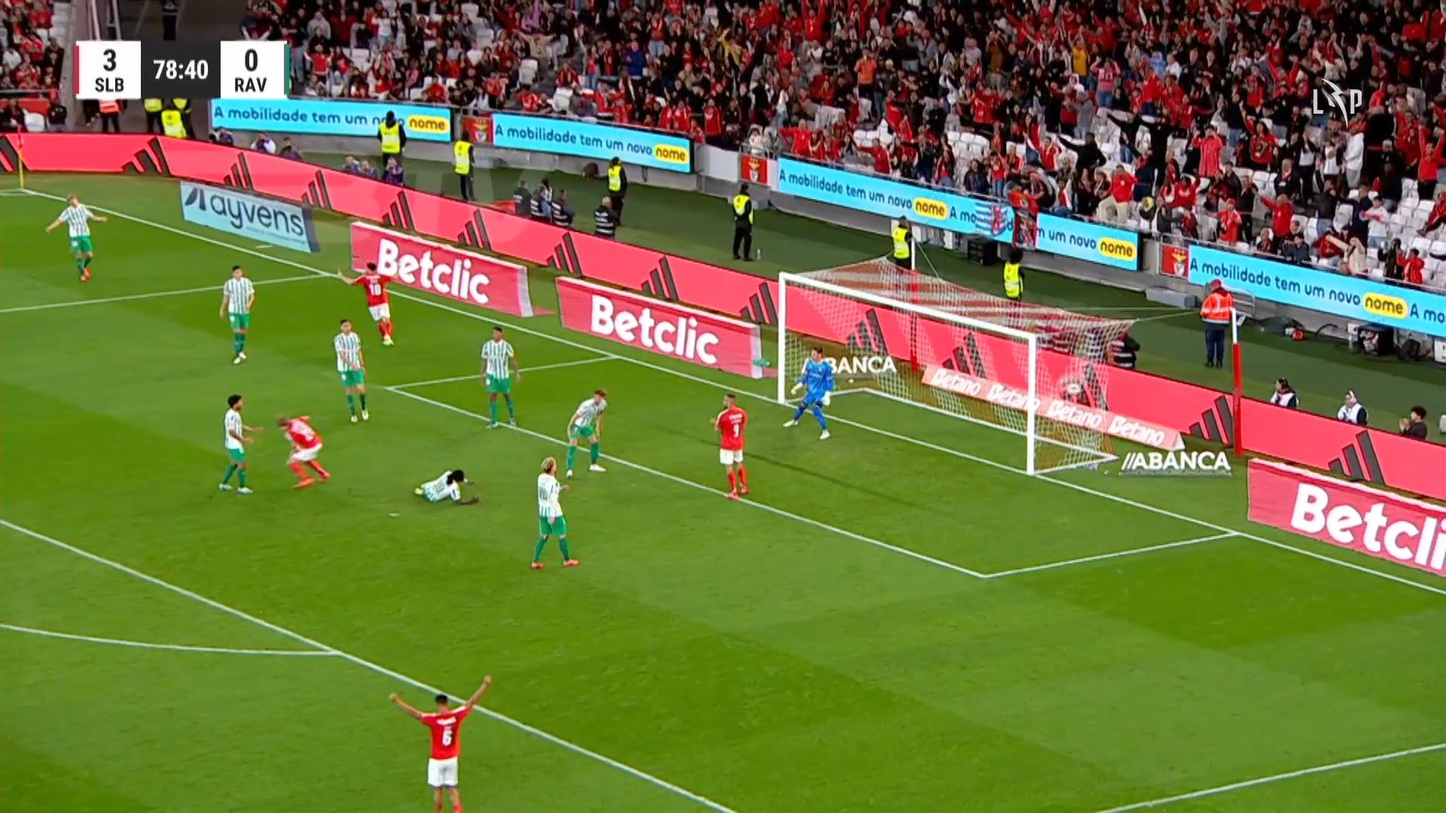goalkeeper: (782, 345, 835, 440)
player: (388, 673, 493, 811), (529, 455, 579, 569), (44, 193, 108, 282), (336, 260, 395, 346), (217, 394, 264, 494), (478, 324, 521, 428), (710, 391, 749, 500), (276, 412, 331, 489), (563, 388, 608, 478), (333, 319, 370, 423), (218, 263, 256, 364), (413, 468, 480, 505)
